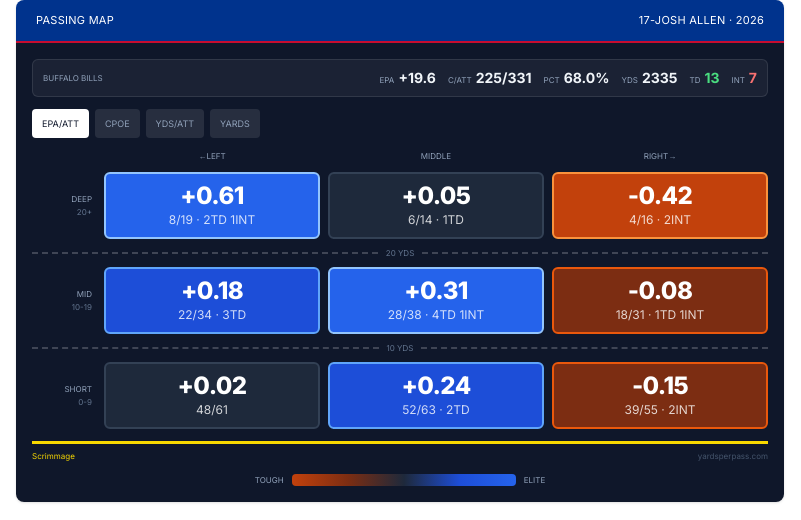
Test: PlayerFieldHeatMap (Tecmo Field) › switching tabs changes the value shown in a zone
Expected: the element showing "+0.61 8/19 · 2TD 1INT" is shown, [104, 172, 320, 239]
What coordinates should you click on to do the following:
click the button "CPOE"
I would click on:
 (117, 123)
Its box is [95, 108, 140, 138].
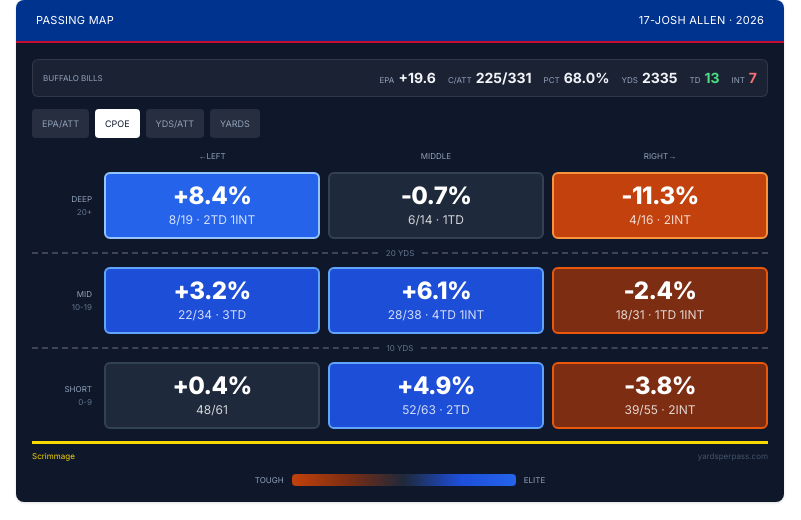
Expected: the element showing "+8.4% 8/19 · 2TD 1INT" is shown, [104, 172, 320, 239]
Expected: the text "+0.61" is gone
What coordinates should you click on to do the following:
click the button "YDS/ATT"
I would click on:
 (175, 123)
Its box is [146, 108, 204, 138].
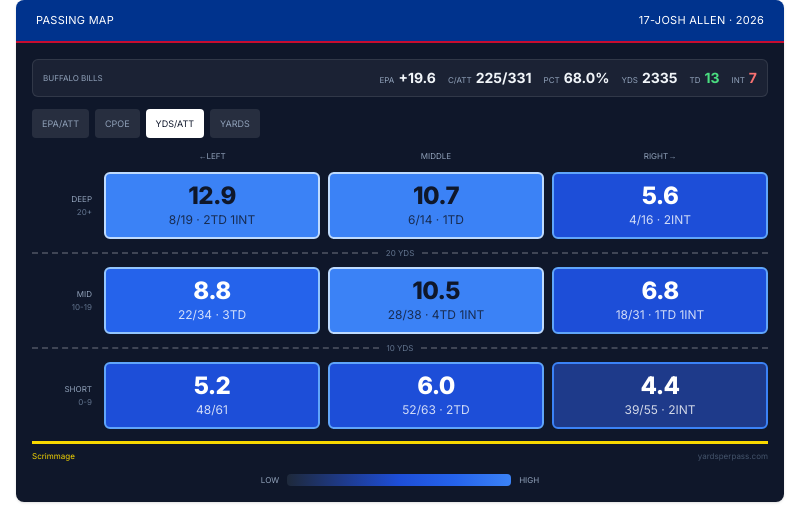
Expected: the element showing "12.9 8/19 · 2TD 1INT" is shown, [104, 172, 320, 239]
What coordinates should you click on to do the following:
click the button "YARDS"
I would click on:
 (235, 123)
Its box is [210, 108, 260, 138].
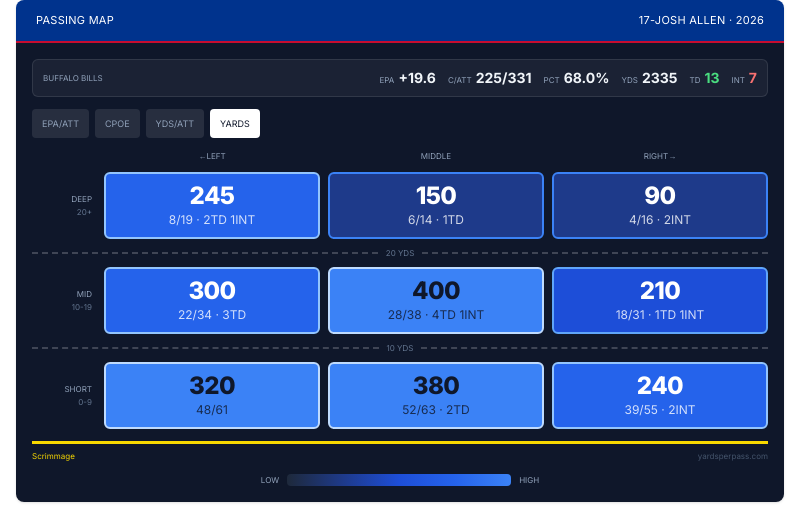
Expected: the element showing "245 8/19 · 2TD 1INT" is shown, [104, 172, 320, 239]
